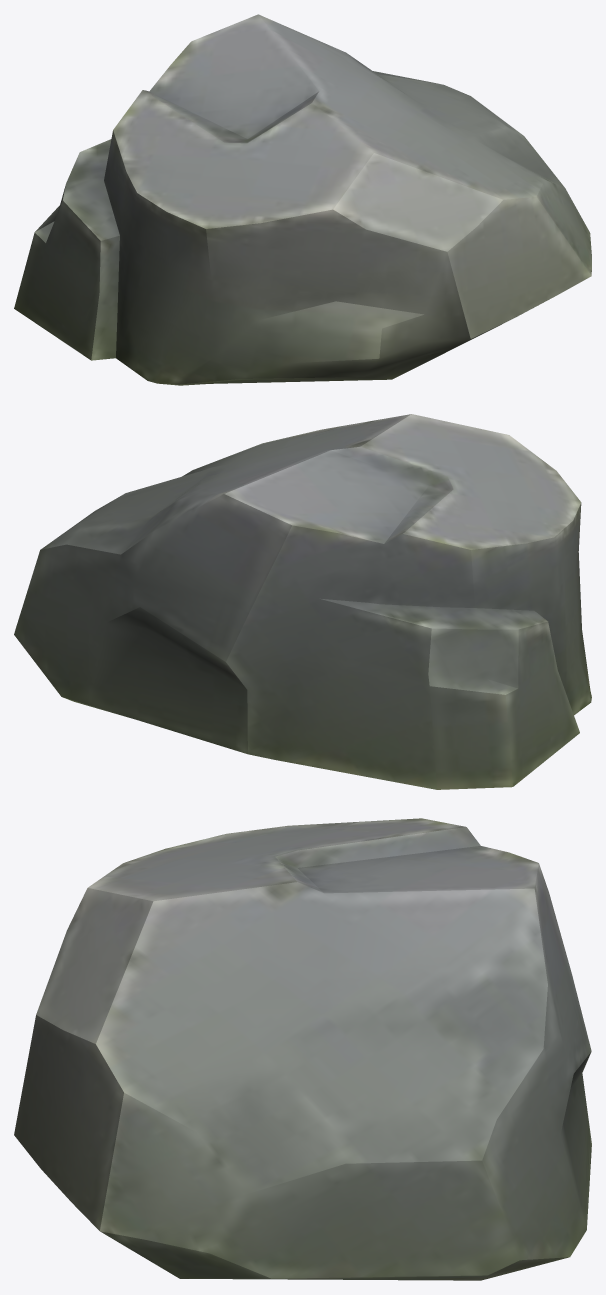
The model's file is cliff_chunk.glb.
The picture shows the model from 3 angles, top to bottom: view 1: azimuth 30°, elevation 25°; view 2: azimuth 150°, elevation 25°; view 3: azimuth 270°, elevation 25°; orthographic projection. The views are drawn at different scales.
Parts seen in each view (by area): view 1: Rock_Medium_2; view 2: Rock_Medium_2; view 3: Rock_Medium_2.
Part boxes in pixels (x1,y1,x2,y2): Rock_Medium_2: [14, 14, 591, 385]; Rock_Medium_2: [14, 414, 591, 789]; Rock_Medium_2: [14, 818, 591, 1280].
Size of the model in its own units: 24.39 by 11.39 by 19.83.
Materials: 1 (1 with a texture image).
